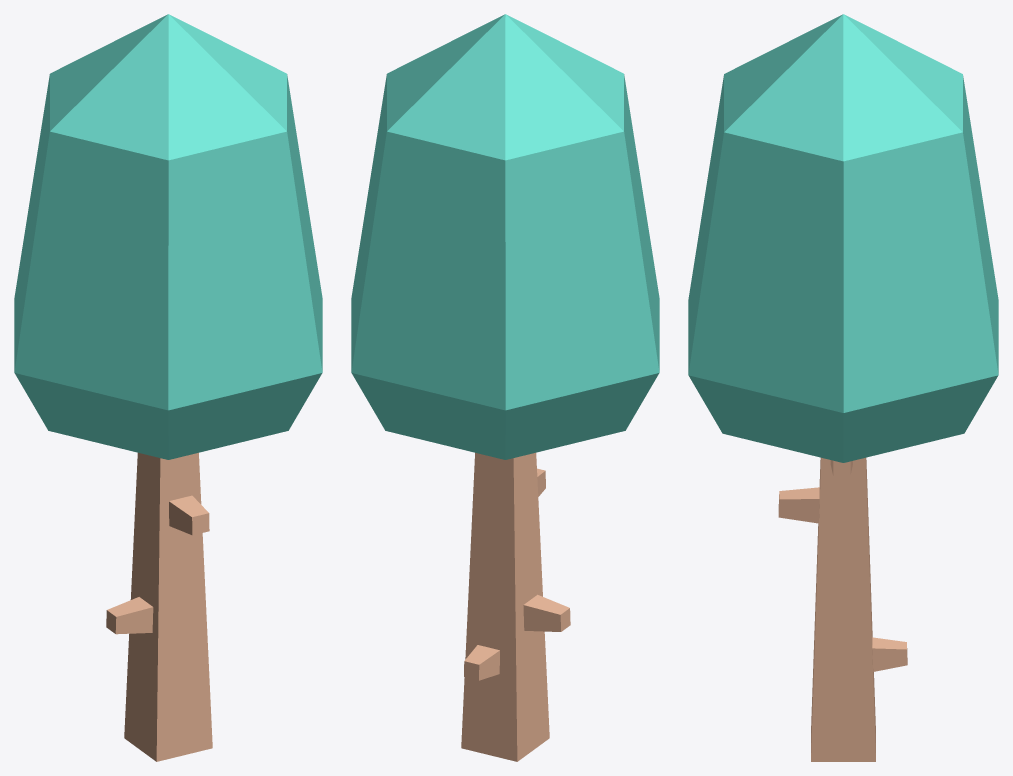
The model's file is tree_default.gltf.
The picture shows the model from 3 angles, left to right: view 1: azimuth 30°, elevation 25°; view 2: azimuth 150°, elevation 25°; view 3: azimuth 270°, elevation 25°; orthographic projection.
Parts seen in each view (by area): view 1: tree_default; view 2: tree_default; view 3: tree_default.
Part boxes in pixels (x1=…): tree_default: x1=14, y1=14, x2=322, y2=761; tree_default: x1=351, y1=14, x2=659, y2=761; tree_default: x1=688, y1=14, x2=998, y2=761.
Bounding box in the file's own units: 0.755 × 1.71 × 0.6538.
